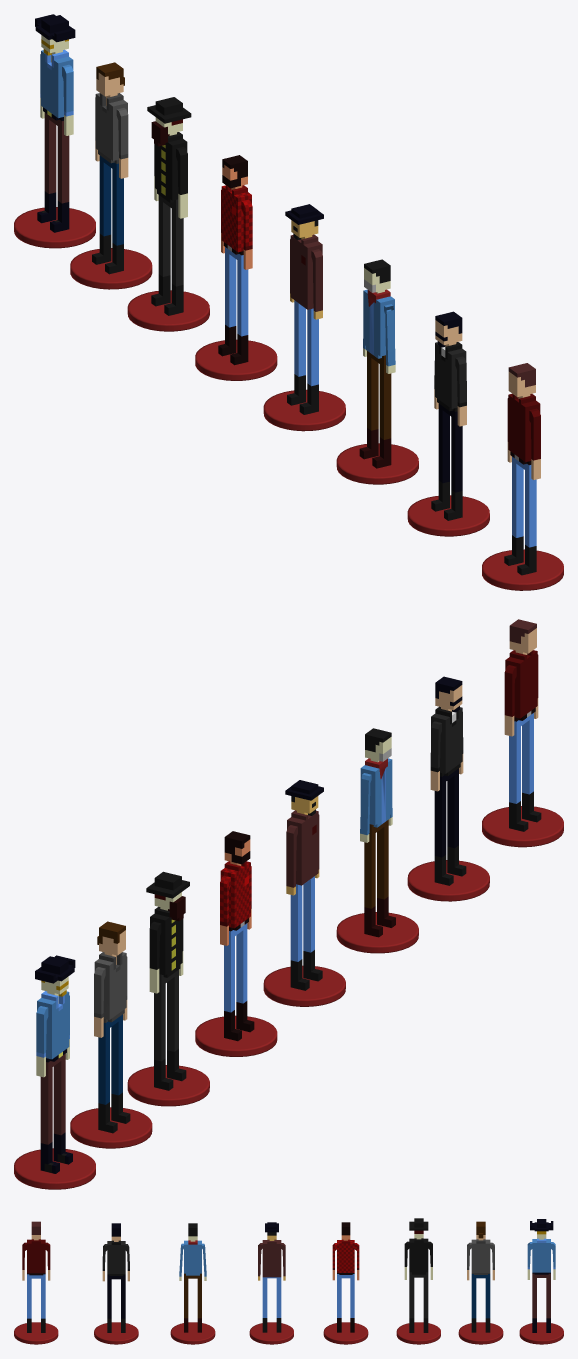
Rendered from PlayerPieces.fbx.
3 views of the same model, one above another, from view 1: azimuth 30°, elevation 25°; view 2: azimuth 150°, elevation 25°; view 3: azimuth 270°, elevation 25° (orthographic). The views are drawn at different scales.
Parts seen in each view (by area): view 1: PlayerPiece.001, PlayerPiece.007, PlayerPiece.006, PlayerPiece.003, PlayerPiece.008, PlayerPiece.005, PlayerPiece.002, PlayerPiece.004; view 2: PlayerPiece.007, PlayerPiece.001, PlayerPiece.008, PlayerPiece.003, PlayerPiece.006, PlayerPiece.002, PlayerPiece.005, PlayerPiece.004; view 3: PlayerPiece.001, PlayerPiece.007, PlayerPiece.008, PlayerPiece.006, PlayerPiece.003, PlayerPiece.002, PlayerPiece.004, PlayerPiece.005.
Boxes of the visible parts, <box> form: PlayerPiece.001: <box>127,97,209,331</box>; PlayerPiece.007: <box>14,14,95,248</box>; PlayerPiece.006: <box>70,62,152,289</box>; PlayerPiece.003: <box>482,363,563,590</box>; PlayerPiece.008: <box>263,204,345,431</box>; PlayerPiece.005: <box>336,259,418,484</box>; PlayerPiece.002: <box>407,311,489,536</box>; PlayerPiece.004: <box>195,155,277,380</box>; PlayerPiece.007: <box>14,955,95,1189</box>; PlayerPiece.001: <box>127,871,209,1106</box>; PlayerPiece.008: <box>263,780,345,1006</box>; PlayerPiece.003: <box>482,619,563,847</box>; PlayerPiece.006: <box>70,921,152,1148</box>; PlayerPiece.002: <box>407,676,489,901</box>; PlayerPiece.005: <box>336,728,418,953</box>; PlayerPiece.004: <box>195,831,277,1056</box>; PlayerPiece.001: <box>396,1218,440,1344</box>; PlayerPiece.007: <box>519,1219,563,1344</box>; PlayerPiece.008: <box>249,1222,293,1344</box>; PlayerPiece.006: <box>458,1221,503,1344</box>; PlayerPiece.003: <box>14,1221,58,1344</box>; PlayerPiece.002: <box>94,1223,138,1344</box>; PlayerPiece.004: <box>323,1222,368,1344</box>; PlayerPiece.005: <box>170,1223,215,1344</box>.
Bounding box in the file's own units: 17.33 × 49.2 × 214.
